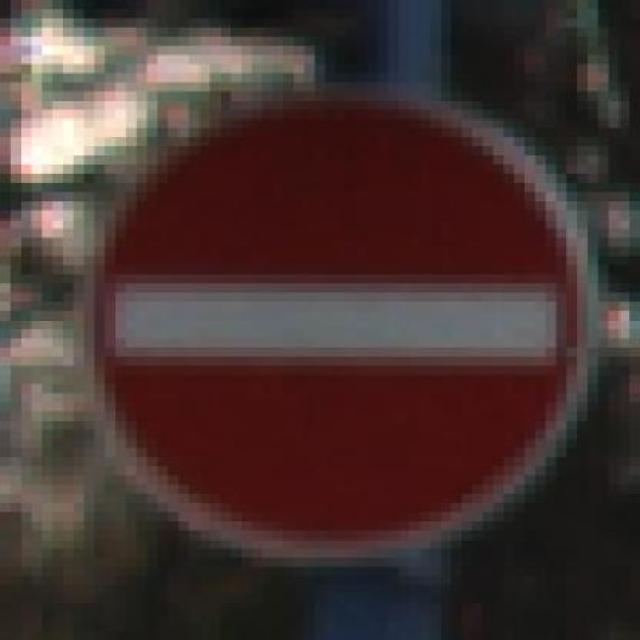B2: (93, 89, 589, 561)
